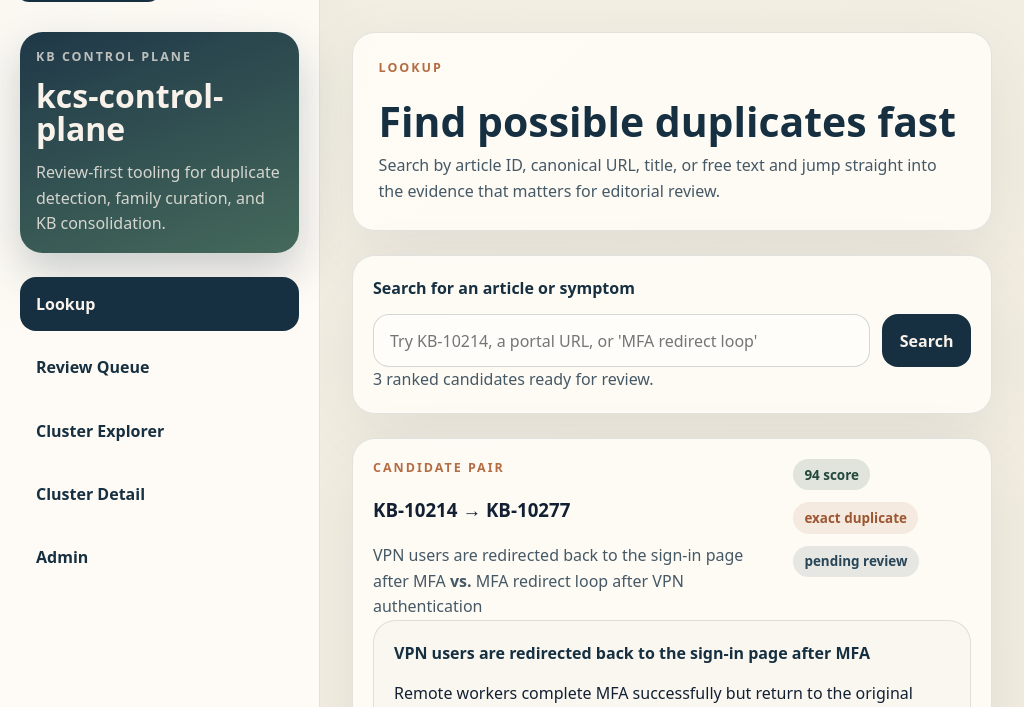
workflow-first frontend › starts the full pipeline and renders streamed log output
Step 1. Click the button "Admin" → (62, 557), box [20,530,299,584]
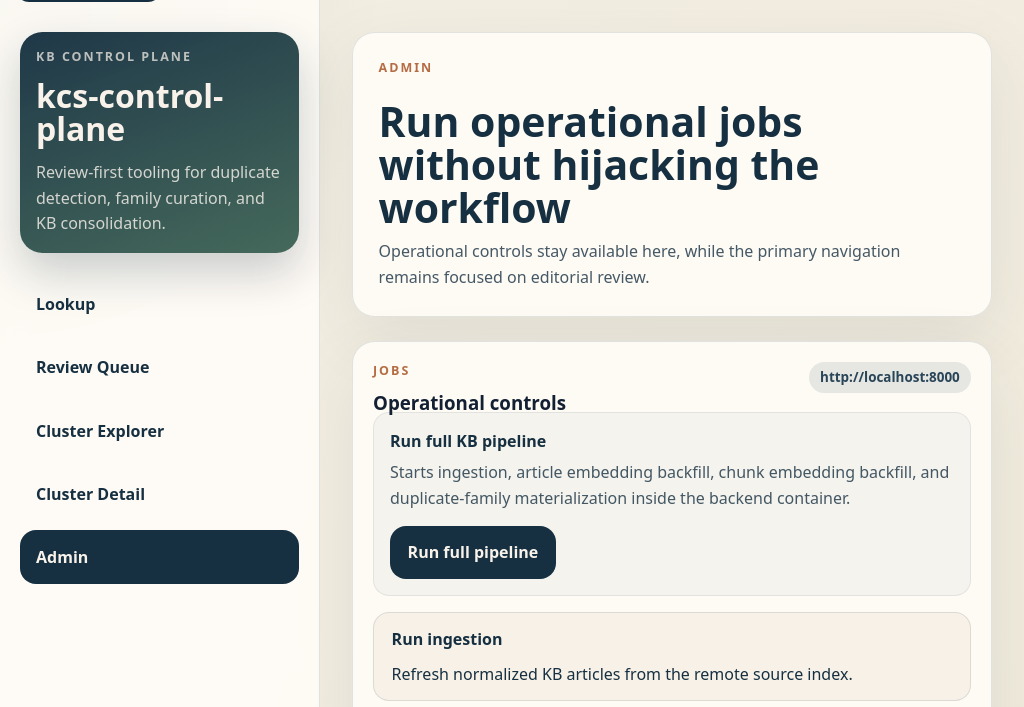
Step 2. Click the button "Run full pipeline" → (473, 552), box [390,526,556,579]
(page scrolled)
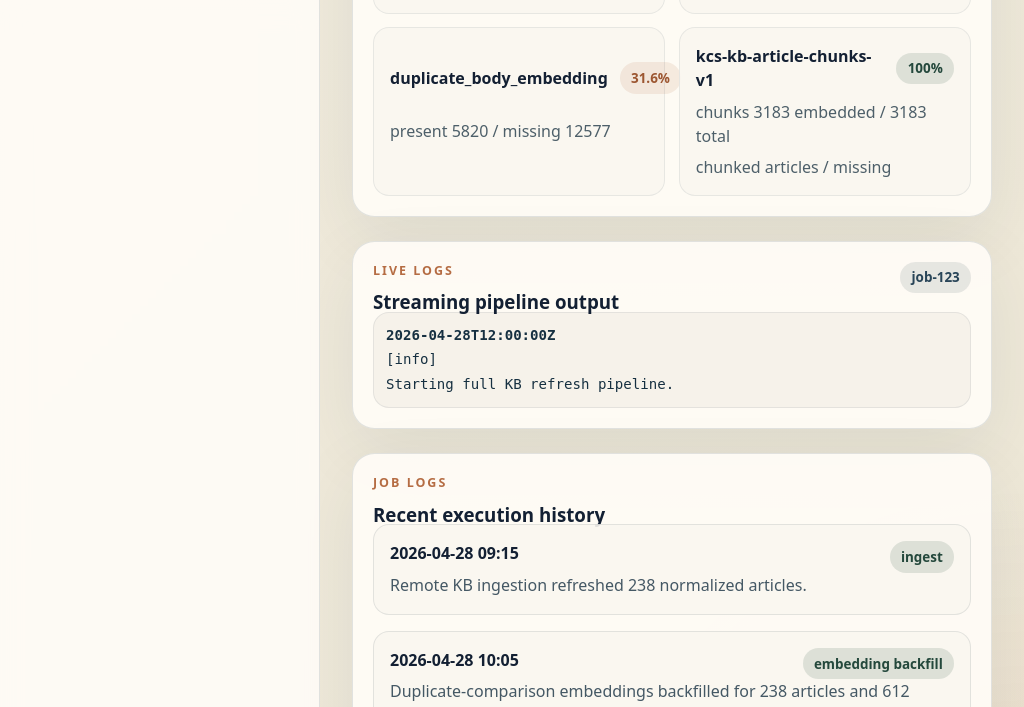
Now the text "Starting full KB refresh pipeline." is shown, box [386,376,674,392]
